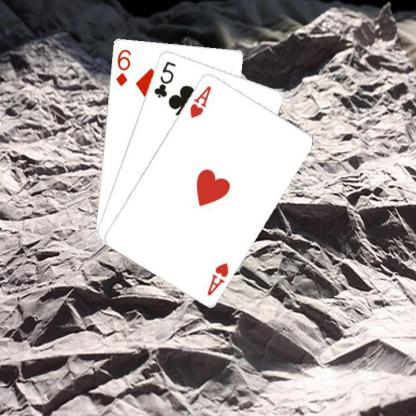5C: (151, 58, 177, 99)
6D: (114, 46, 132, 87)
AH: (204, 259, 230, 297), (186, 83, 212, 119)
